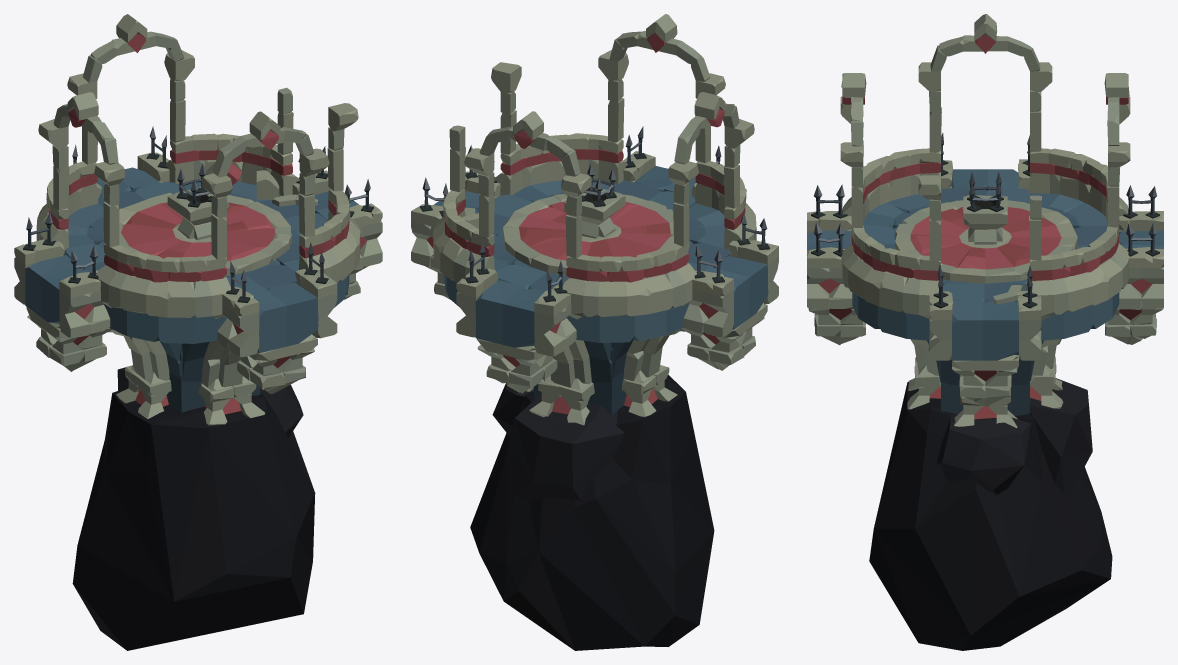
Rendered from bridge_cross_01_round.fbx.
The picture shows the model from 3 angles, left to right: view 1: azimuth 30°, elevation 25°; view 2: azimuth 150°, elevation 25°; view 3: azimuth 270°, elevation 25°; orthographic projection.
Parts seen in each view (by area): view 1: bridge_cross_01_round; view 2: bridge_cross_01_round; view 3: bridge_cross_01_round.
Part boxes in pixels (box(x1,y1,x2,y2)): bridge_cross_01_round: box(14, 14, 382, 650); bridge_cross_01_round: box(411, 14, 778, 650); bridge_cross_01_round: box(807, 14, 1163, 650).
Size of the model in its own units: 800 by 1359 by 800.
